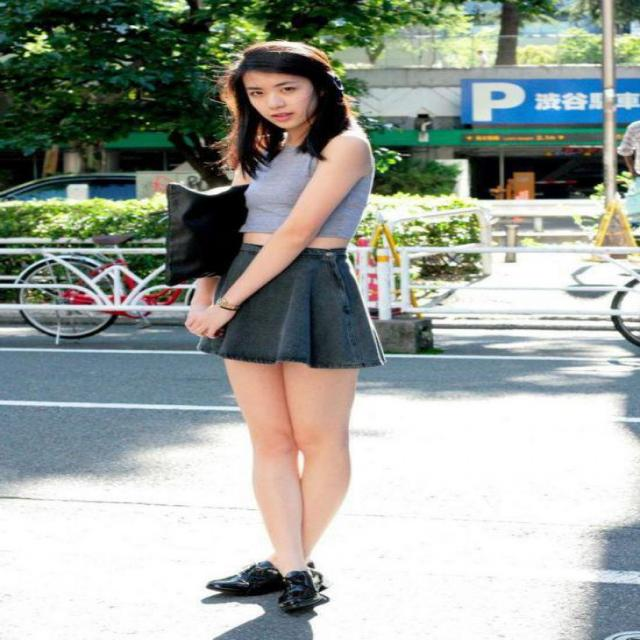Manusia: (134, 5, 398, 628)
